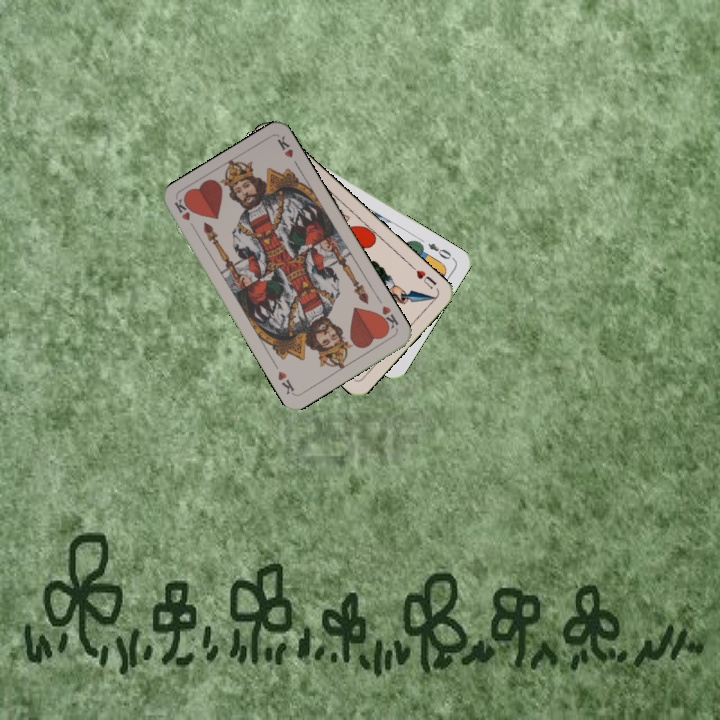EO: (424, 239, 457, 262)
HK: (170, 195, 199, 234), (374, 302, 401, 333)
HU: (407, 261, 439, 292)
